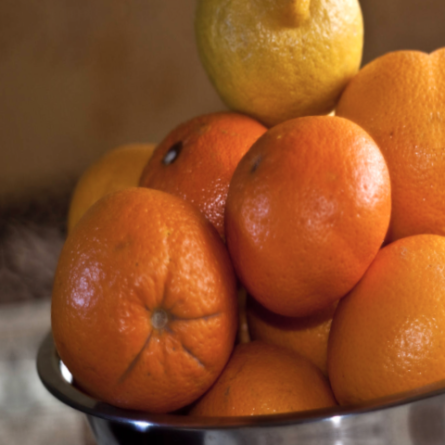orange: (28, 171, 254, 440), (194, 69, 407, 334)
